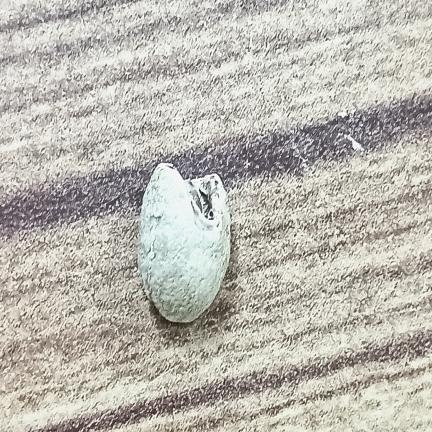cut: (138, 163, 230, 322)
